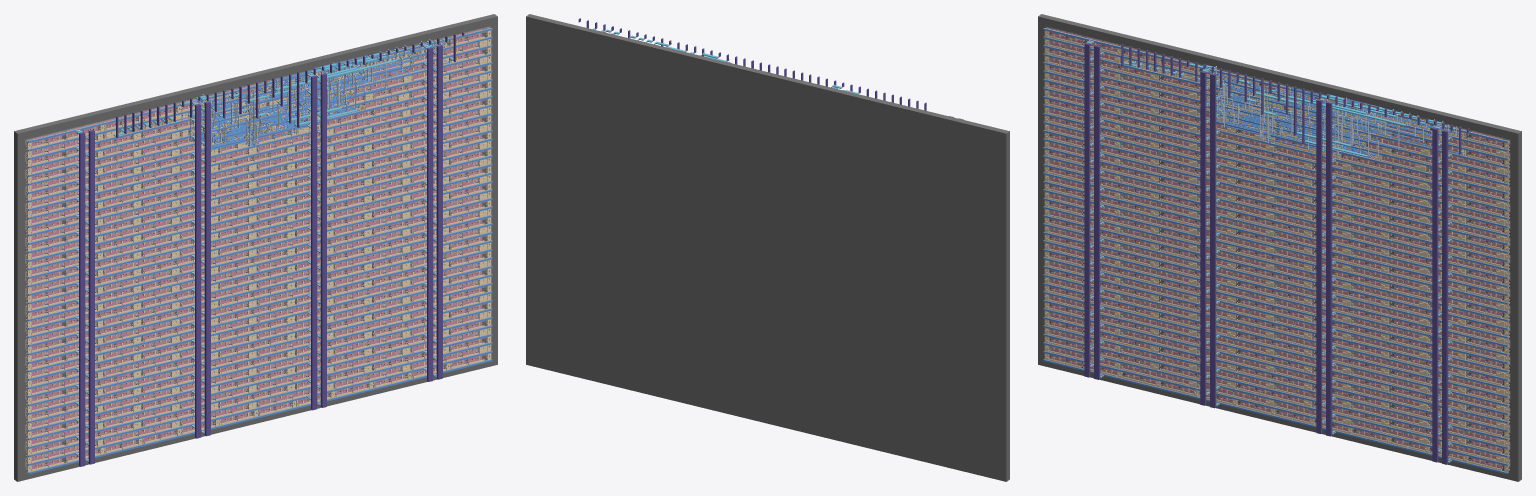
File: tt_um_factory_test.gds.gltf
The picture shows the model from 3 angles, left to right: view 1: azimuth 30°, elevation 25°; view 2: azimuth 150°, elevation 25°; view 3: azimuth 330°, elevation 25°; orthographic projection.
Parts seen in each view (by area): view 1: tt_um_factory_test_met1, tt_um_factory_test_substrate, tt_um_factory_test_met4, tt_um_factory_test_met2, tt_um_factory_test_met3, tt_um_factory_test_via2; view 2: tt_um_factory_test_substrate, tt_um_factory_test_met4; view 3: tt_um_factory_test_substrate, tt_um_factory_test_met4, tt_um_factory_test_met1, tt_um_factory_test_met2, tt_um_factory_test_met3.
Boxes of the visible parts, bbox=[...] form: tt_um_factory_test_met1: bbox=[28, 28, 492, 473]; tt_um_factory_test_substrate: bbox=[14, 14, 497, 481]; tt_um_factory_test_met4: bbox=[79, 32, 464, 466]; tt_um_factory_test_met2: bbox=[75, 38, 450, 460]; tt_um_factory_test_met3: bbox=[77, 39, 453, 462]; tt_um_factory_test_via2: bbox=[76, 38, 450, 460]; tt_um_factory_test_substrate: bbox=[526, 14, 1009, 481]; tt_um_factory_test_met4: bbox=[578, 18, 963, 119]; tt_um_factory_test_substrate: bbox=[1038, 14, 1521, 481]; tt_um_factory_test_met4: bbox=[1084, 42, 1469, 464]; tt_um_factory_test_met1: bbox=[1043, 28, 1507, 473]; tt_um_factory_test_met2: bbox=[1089, 40, 1463, 461]; tt_um_factory_test_met3: bbox=[1086, 41, 1463, 462].
Size of the model in its own units: 161 by 112 by 6.87.
